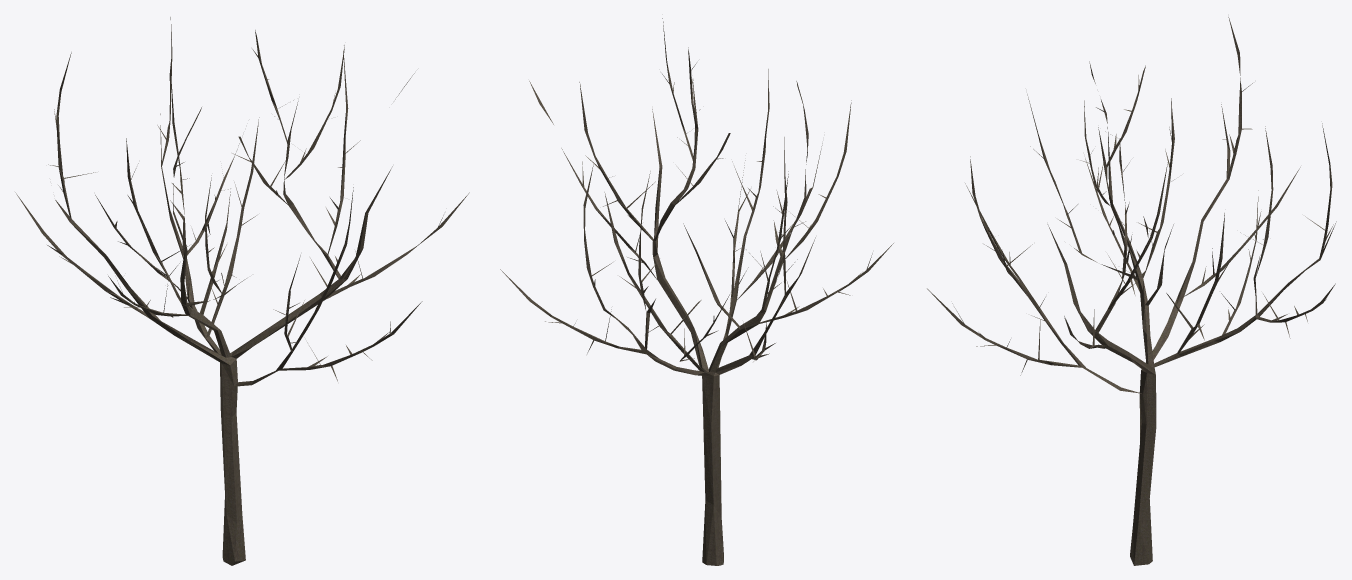
File: dryTree2.glb
3 renders of one model, left to right at view 1: azimuth 30°, elevation 25°; view 2: azimuth 150°, elevation 25°; view 3: azimuth 270°, elevation 25°, orthographic. The views are drawn at different scales.
Parts seen in each view (by area): view 1: dryTree2; view 2: dryTree2; view 3: dryTree2.
Boxes of the visible parts, x1,y1,x2,y2 form: dryTree2: (15,17,469,565); dryTree2: (500,18,893,565); dryTree2: (927,17,1336,565).
Size of the model in its own units: 3 by 4.28 by 3.13.
1 material, 1 textured.
